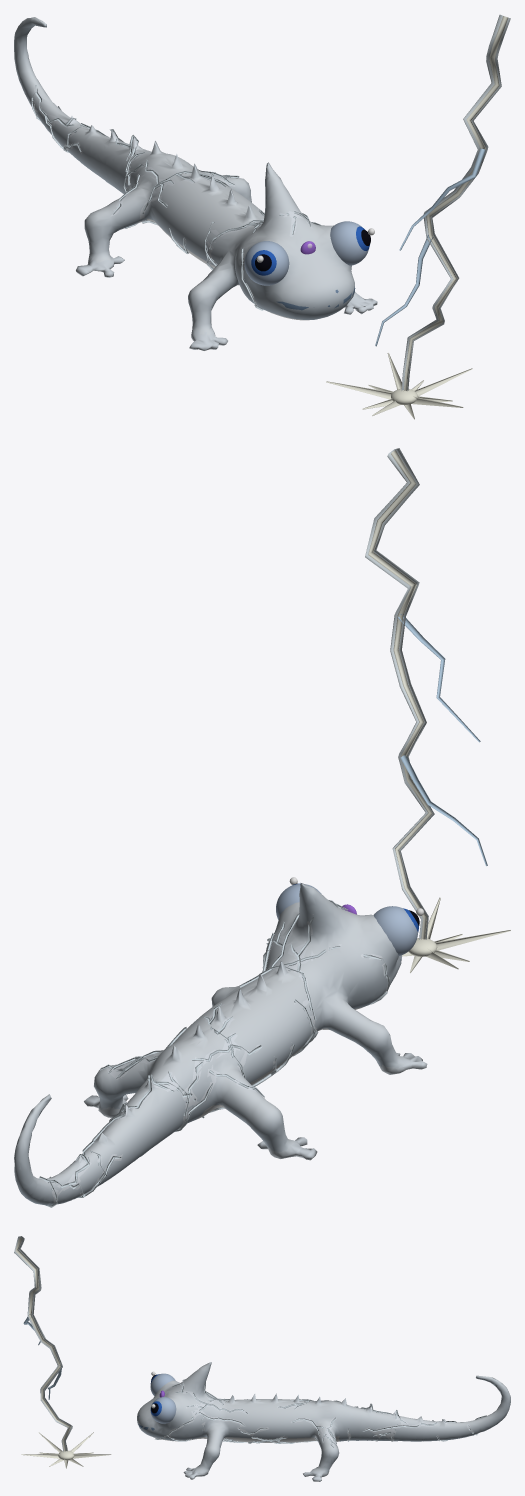
File: arcvik.glb
3 renders of one model, top to bottom at view 1: azimuth 30°, elevation 25°; view 2: azimuth 150°, elevation 25°; view 3: azimuth 270°, elevation 25°, orthographic. The views are drawn at different scales.
Visible parts, largest first — view 1: body, aura, eyes; view 2: body, aura, eyes; view 3: body, eyes, aura.
Boxes of the visible parts, box(x1,y1,x2,y2) form: body: box(14, 17, 377, 350); aura: box(326, 14, 510, 419); eyes: box(31, 85, 374, 310); body: box(14, 883, 427, 1205); aura: box(365, 448, 510, 972); eyes: box(39, 877, 424, 1207); body: box(137, 1362, 510, 1481); eyes: box(150, 1371, 486, 1447); aura: box(14, 1236, 111, 1468).
Bounding box in the file's own units: 0.7696 × 1.46 × 2.75.
